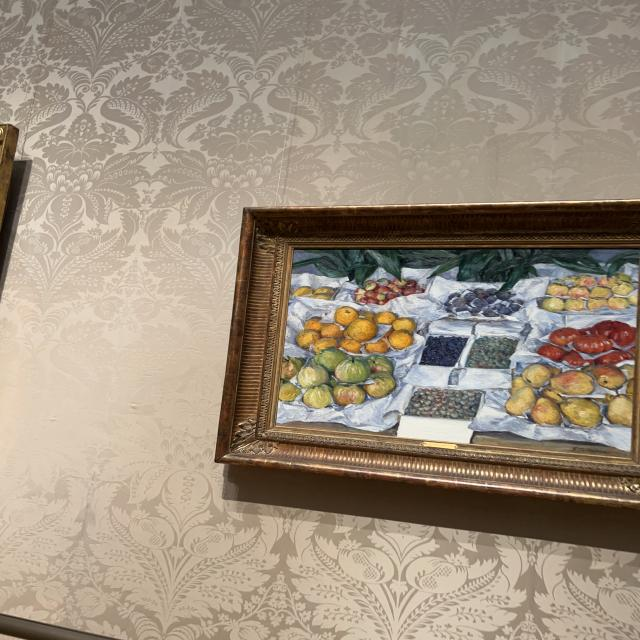fruits: (277, 251, 636, 456)
